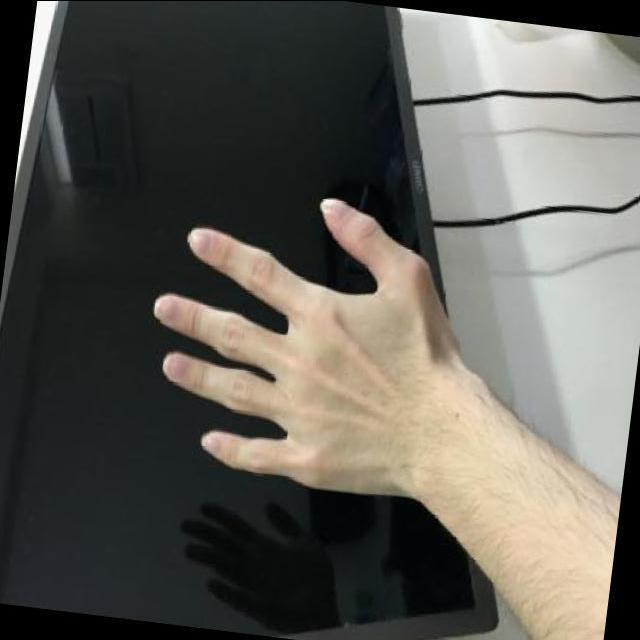hand: (112, 164, 506, 522)
